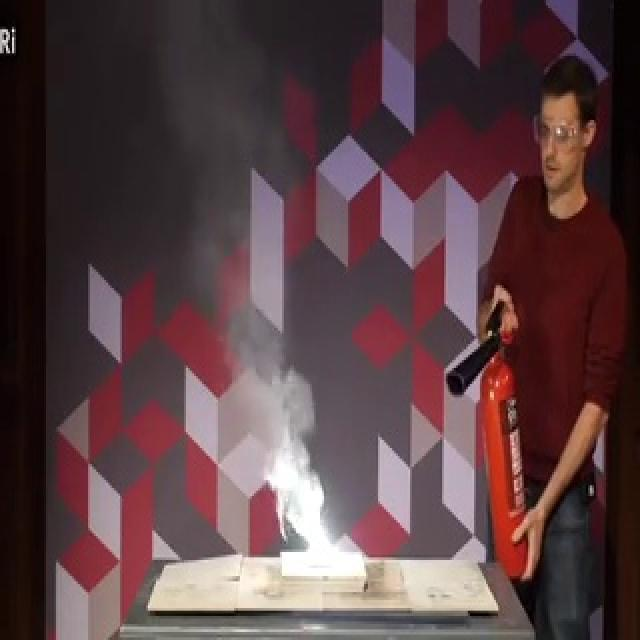Fire: (286, 485, 344, 568)
Smoke: (218, 270, 323, 460)
